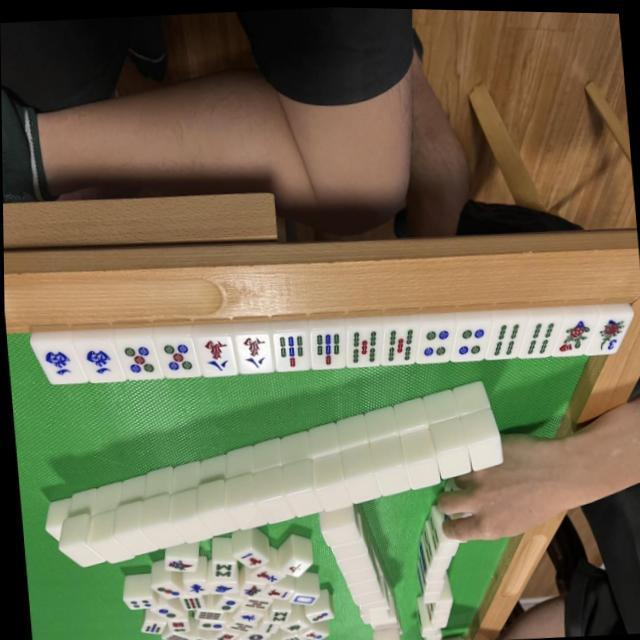bf3: (593, 307, 622, 352)
bs4: (554, 308, 588, 354)
hww: (78, 336, 118, 382), (40, 342, 74, 382)
sb4: (523, 314, 556, 355), (490, 314, 519, 355)
sb5: (346, 320, 378, 364), (381, 322, 414, 361)
sb7: (312, 324, 343, 367), (274, 329, 308, 368)
sc8: (194, 332, 233, 373), (237, 330, 271, 370)
sd4: (454, 318, 484, 358), (420, 321, 450, 358)
sd5: (119, 336, 155, 376), (158, 332, 192, 374)
